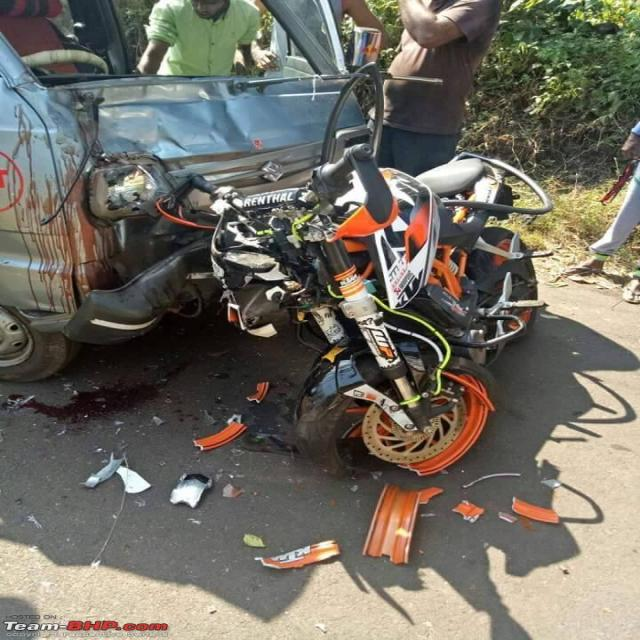accident: (188, 144, 550, 475)
